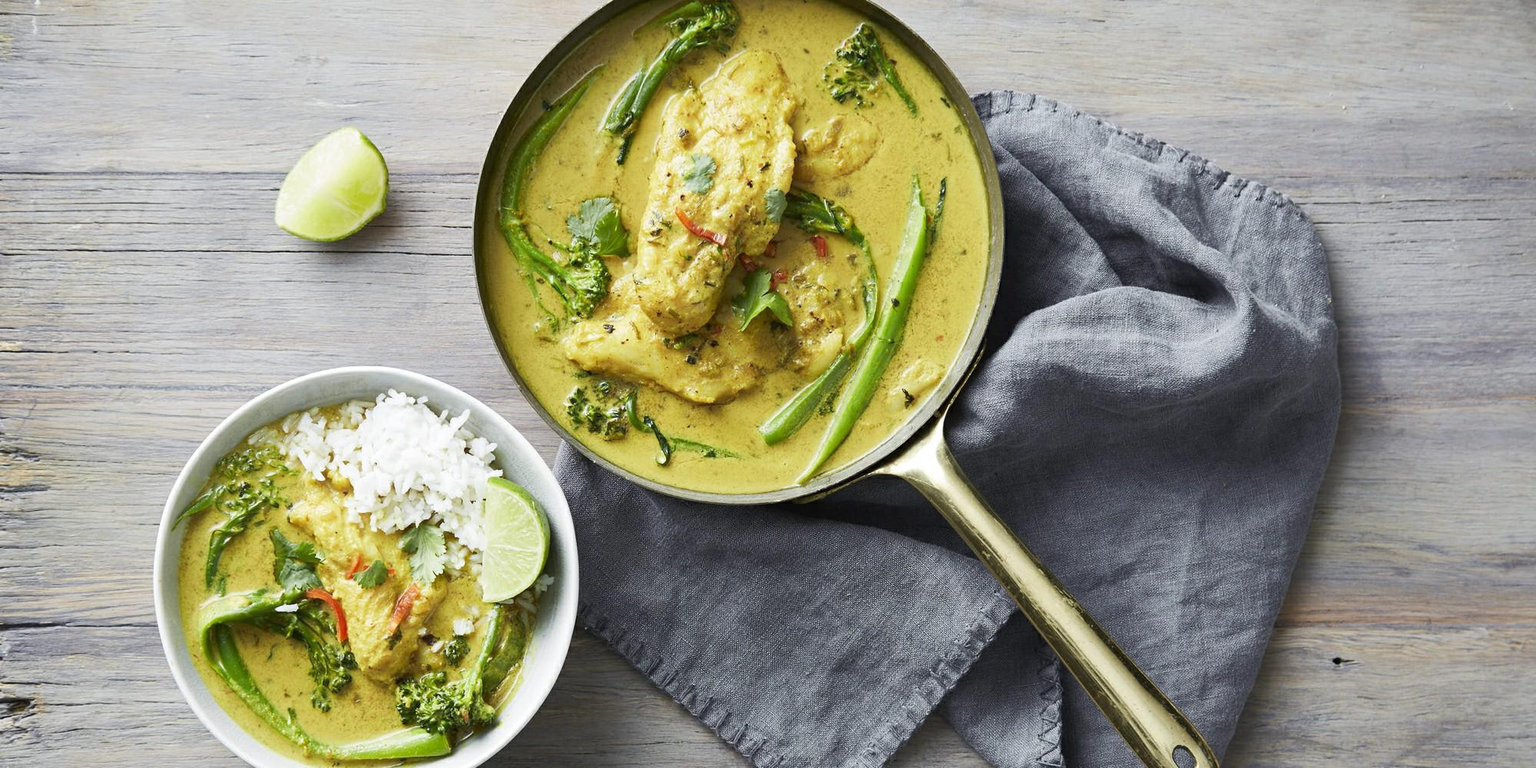FishCurry: (475, 1, 990, 489), (175, 401, 531, 768)
WhiteRice: (289, 388, 556, 608)
